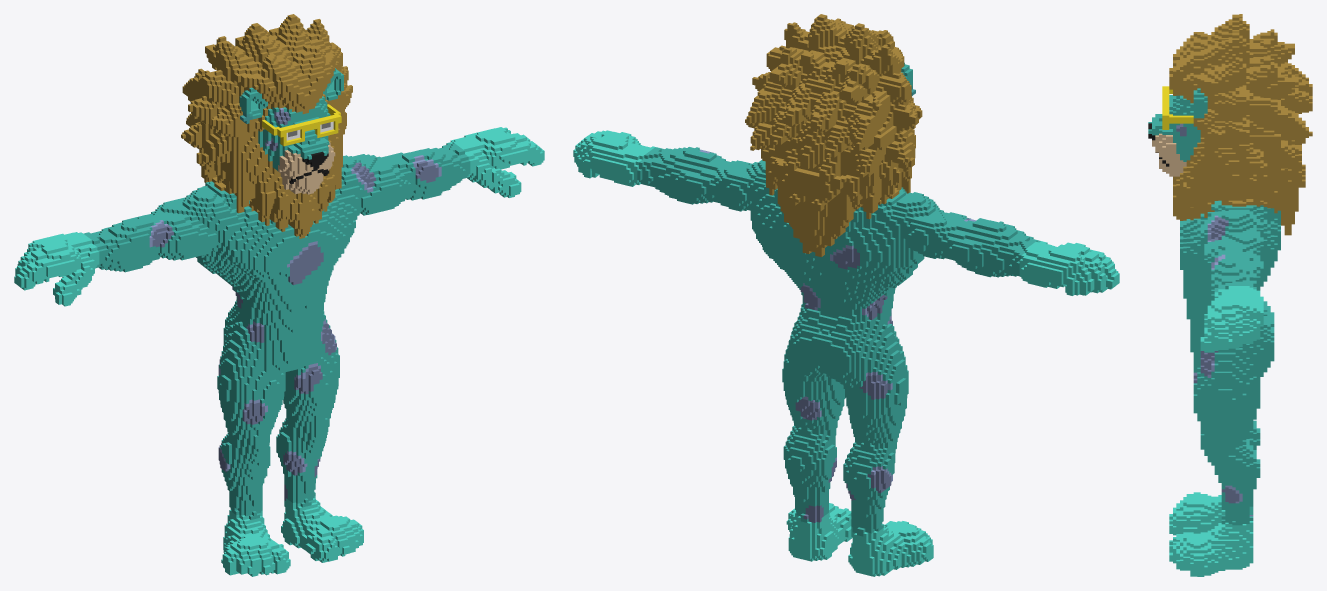
Rendered from 117-DjVqndR1.glb.
3 views of the same model, side by side, from view 1: azimuth 30°, elevation 25°; view 2: azimuth 150°, elevation 25°; view 3: azimuth 270°, elevation 25° (orthographic). The views are drawn at different scales.
Visible parts, largest first — view 1: sad; view 2: sad; view 3: sad.
Boxes of the visible parts, left/top/right/bottom form: sad: left=14, top=14, right=544, bottom=576; sad: left=573, top=14, right=1119, bottom=576; sad: left=1148, top=14, right=1312, bottom=576.
Bounding box in the file's own units: 17.2 × 16.5 × 4.7.
5 materials, 5 textured.
